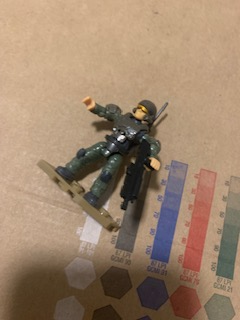soldier: (55, 92, 169, 212)
